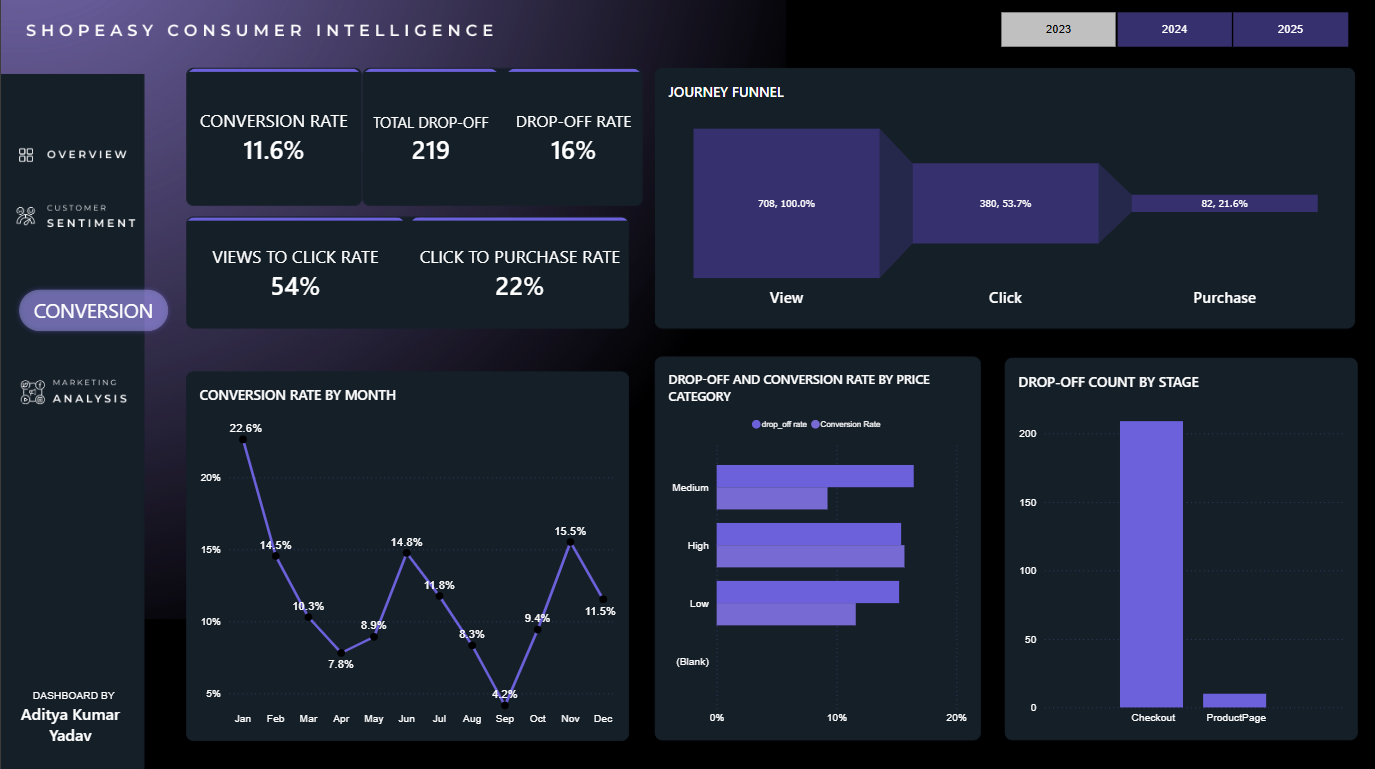

This screenshot's page, from the dashboard's own definition file:
{"tool":"powerbi","page":{"name":"Conversion Analysis","canvas":[1600,900],"ordinal":2},"visuals":[{"type":"cardVisual","fields":{"Data":["calculations.Conversion Rate"]},"box":[214.8,80.3,204.9,160.7],"z":0},{"type":"cardVisual","fields":{"Data":["calculations.Total Dropoffs","calculations.drop_off rate"]},"box":[420.2,79.8,326.7,161],"z":1000},{"type":"columnChart","title":"DROP-OFF COUNT BY STAGE","fields":{"Category":["customer_journey_cleaned.Stage"],"Y":["CountNonNull(customer_journey_cleaned.JourneyID)"]},"box":[1166.7,416.7,410,445],"z":2000},{"type":"clusteredBarChart","title":"DROP-OFF AND CONVERSION RATE BY PRICE CATEGORY","fields":{"Category":["products.Price Category"],"Y":["calculations.drop_off rate","calculations.Conversion Rate"]},"box":[760.7,415.6,378.8,446.3],"z":3000},{"type":"cardVisual","fields":{"Data":["calculations.View to Click Rate","calculations.Click to Purchase Rate"]},"box":[214.7,253.1,515.3,130.4],"z":4000},{"type":"stackedhorizontalfunnelFE2592C5FD84598C826E28081A442033","title":"JOURNEY FUNNEL","fields":{"col_0":["customer_journey_cleaned.Action"],"col_1":["CountNonNull(customer_journey_cleaned.JourneyID)"]},"box":[760.7,80.3,814.8,303.3],"z":5000},{"type":"lineChart","title":"CONVERSION RATE BY MONTH","fields":{"Category":["Calendar.MonthNameShort"],"Y":["calculations.Conversion Rate"]},"box":[214.7,432.5,515.3,429.5],"z":6000},{"type":"slicer","fields":{"Values":["Calendar.Date.Variation.Date Hierarchy.Year"]},"box":[1142.6,13.1,442.6,44.3],"z":7000},{"type":"shape","box":[11.7,305,150,111.7],"z":8000},{"type":"shape","box":[0,316.7,215,90],"z":9000},{"type":"pageNavigator","box":[0,131.7,183.3,100],"z":10000},{"type":"pageNavigator","box":[0,205,183.3,100],"z":11000},{"type":"pageNavigator","box":[0,400,183.3,100],"z":12000},{"type":"textbox","box":[0,802.3,161.3,97.4],"z":13000}]}

Visuals, with their boxes in screenshot pixels (x1, y1, x2, y2), scaled from the page's 1600x900 canvas onto the 1375x769 screenshot:
cardVisual - calculations.Conversion Rate: (185,69,361,206)
cardVisual - calculations.Total Dropoffs x calculations.drop_off rate: (361,68,642,206)
"DROP-OFF COUNT BY STAGE" columnChart: (1003,356,1355,736)
"DROP-OFF AND CONVERSION RATE BY PRICE CATEGORY" clusteredBarChart: (654,355,979,736)
cardVisual - calculations.View to Click Rate x calculations.Click to Purchase Rate: (185,216,627,328)
"JOURNEY FUNNEL" stackedhorizontalfunnelFE2592C5FD84598C826E28081A442033: (654,69,1354,328)
"CONVERSION RATE BY MONTH" lineChart: (185,370,627,737)
slicer - Calendar.Date.Variation.Date Hierarchy.Year: (982,11,1362,49)
shape: (10,261,139,356)
shape: (0,271,185,348)
pageNavigator: (0,113,158,198)
pageNavigator: (0,175,158,261)
pageNavigator: (0,342,158,427)
textbox: (0,686,139,768)
